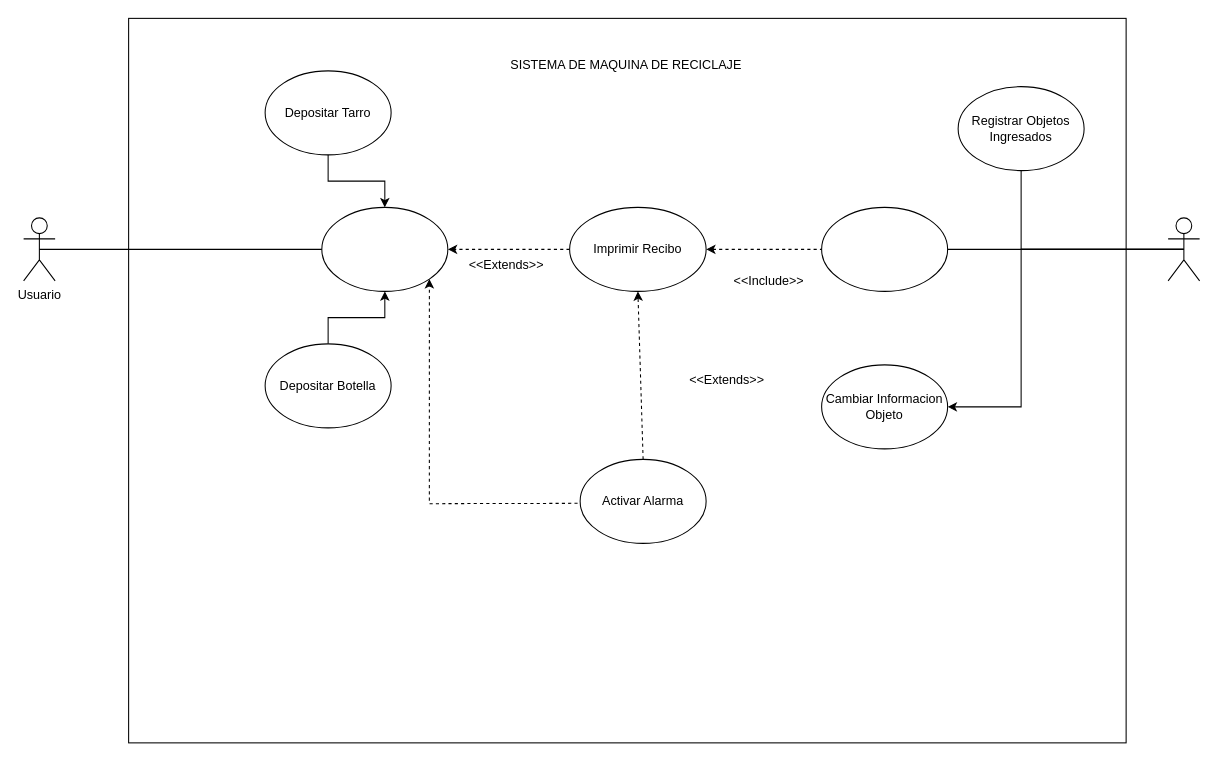
Some shapes in this 1229 by 761 pixel diagram are drawn without their labels. Each missing label, with the box of its shape:
Depositar Objeto: (321, 206, 448, 291)
Imprimir resumen Diario: (821, 206, 948, 291)
Operador: (1167, 217, 1200, 281)
